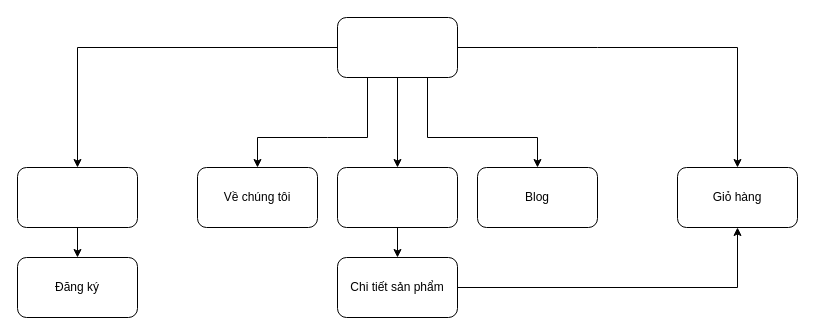
The diagram is 815 pixels wide and 335 high, and some of its shapes have lost their labels. The shapes that lost their labels are listed below. From the top down, each one's box as (x1, y1, x2, y2) in pixels, then its label:
(336, 16, 458, 78): Trang chủ
(16, 166, 138, 228): Đăng nhập
(336, 166, 458, 228): Cửa hàng
